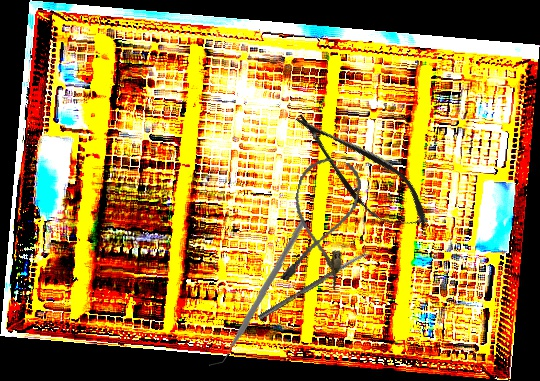Cannula: (276, 153, 366, 292)
Chopper: (204, 218, 309, 368)
Micro Scissor: (280, 97, 441, 247)
Surgical Spoon: (257, 249, 372, 321)
